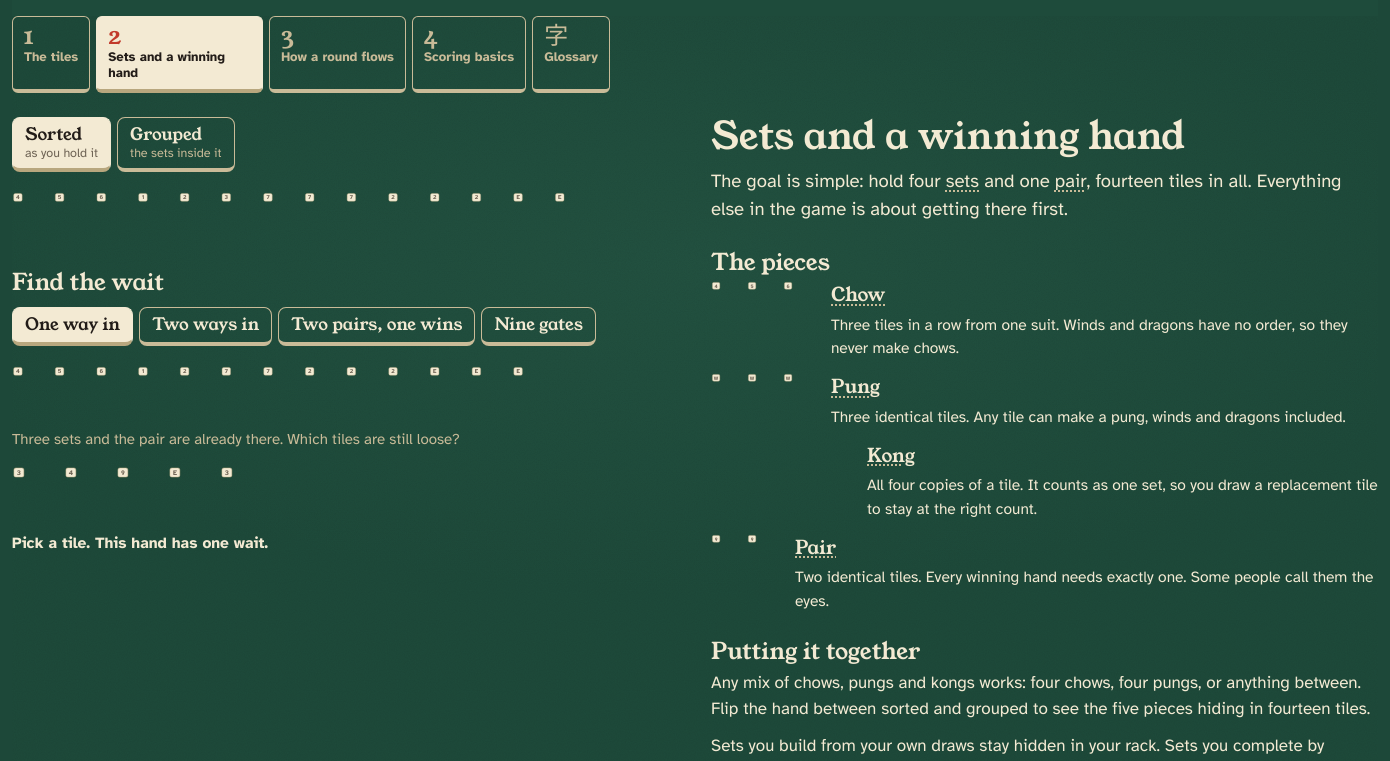
Test case: Primer › finds a wait and shows the sets
This screenshot has width=1390, height=761.
Step 1. Click the button named "Four of dots" → click(87, 493), box [64, 466, 110, 521]
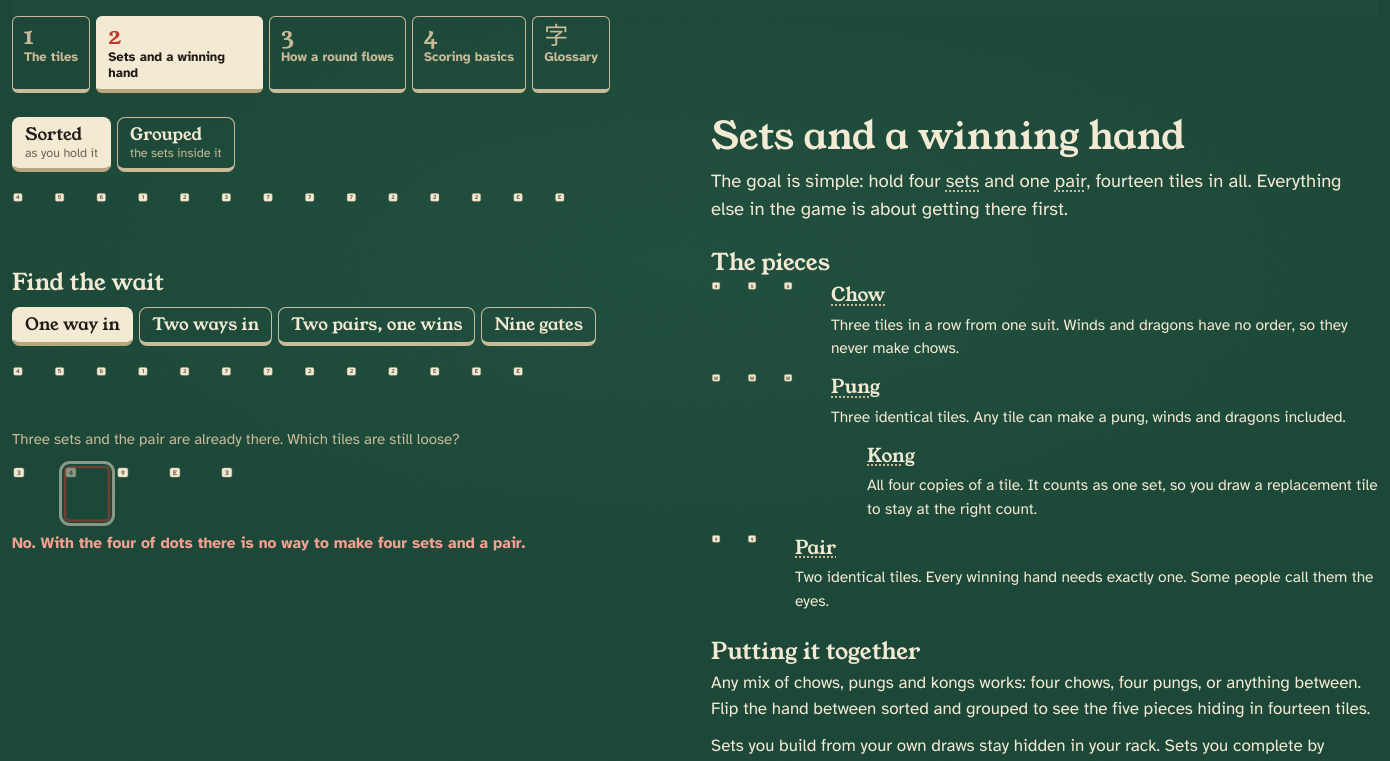
Expected: the text "there is no way to make four sets" is shown, [193, 533, 525, 552]
Step 2. Click the button named "Three of dots" → click(35, 493), box [12, 466, 58, 521]
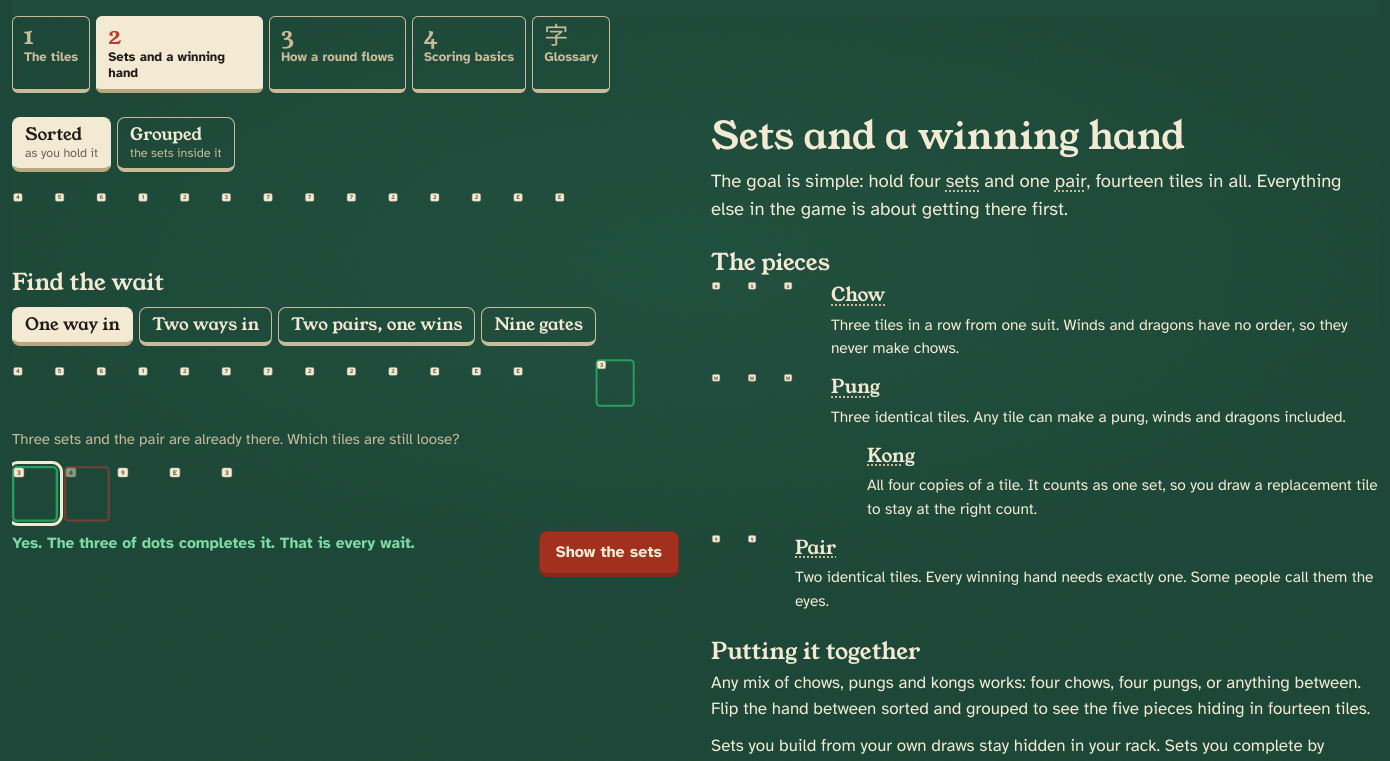
Expected: the text "Yes. The three of dots completes it. That is every wait." is shown, [12, 533, 415, 552]
Step 3. Click the button "Show the sets" → click(609, 554), box [539, 531, 679, 577]
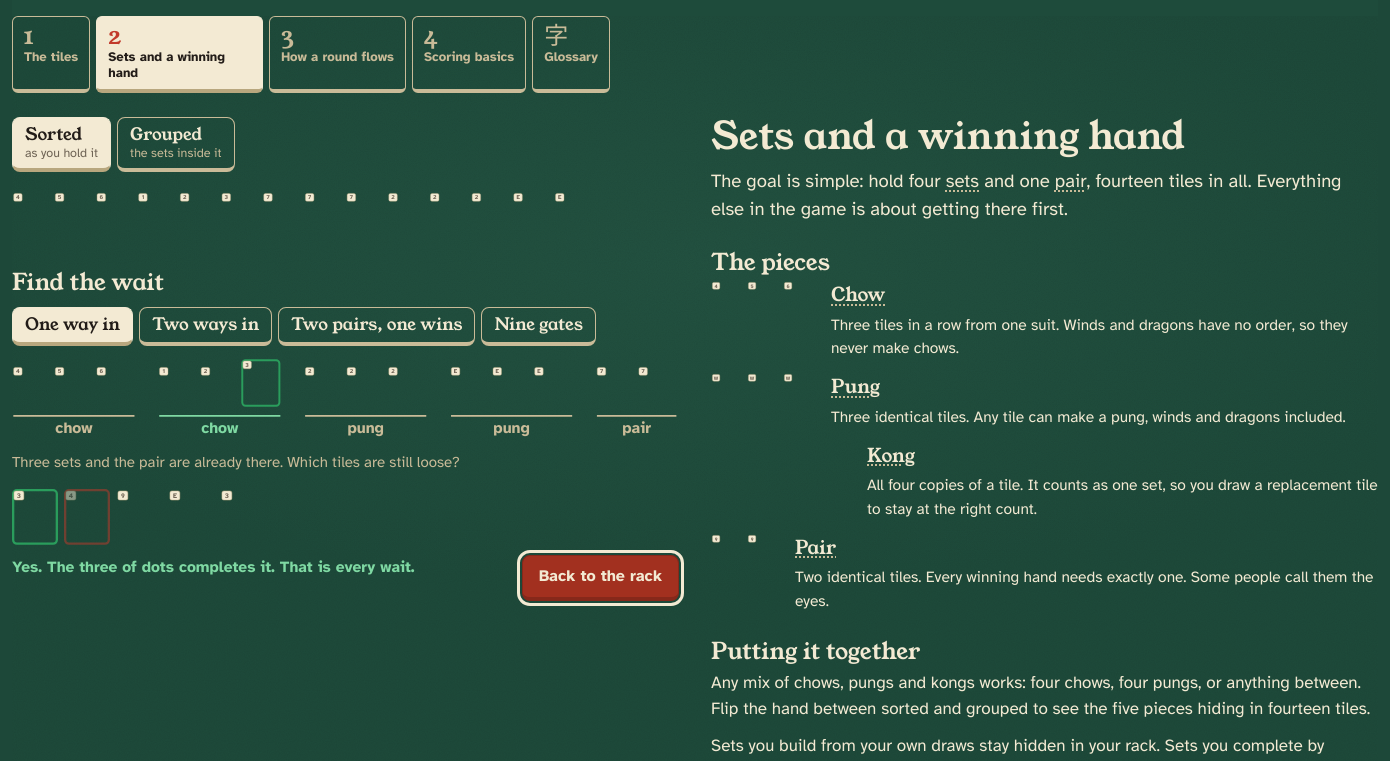
Expected: the button "Back to the rack" is shown, [522, 555, 679, 601]
